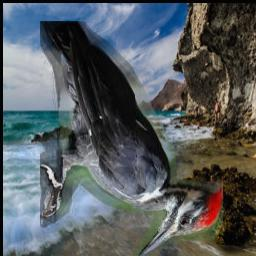Woodpecker: (41, 21, 224, 256)
